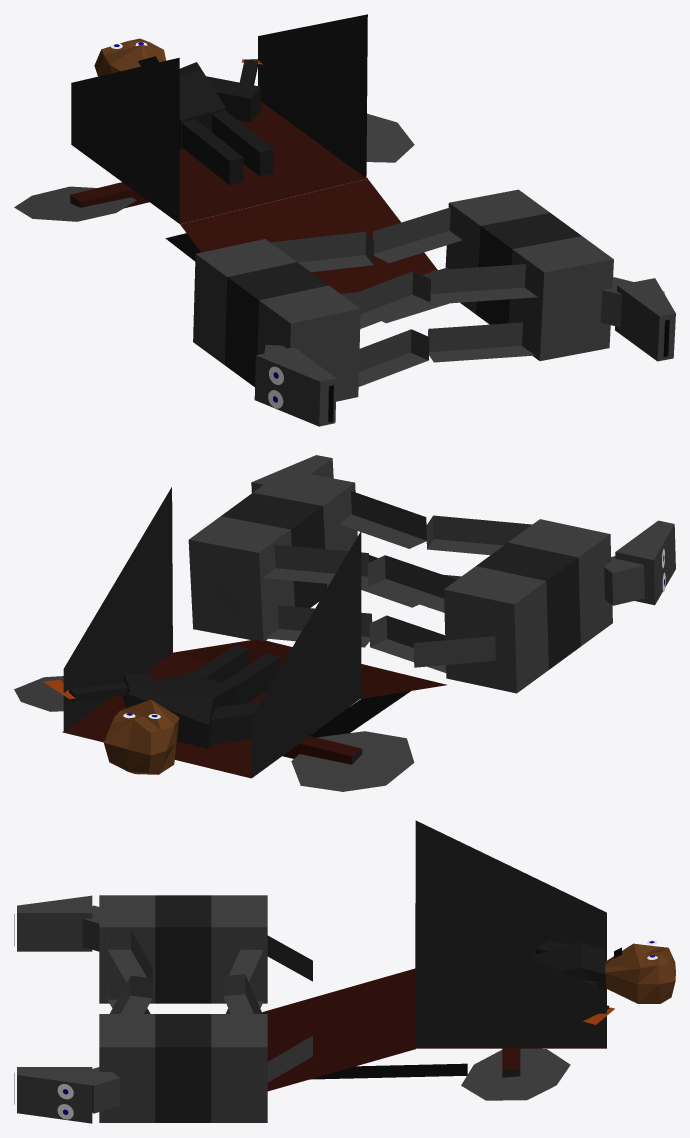
The model's file is lightchariot3d.obj.
3 views of the same model, one above another, from view 1: azimuth 30°, elevation 25°; view 2: azimuth 150°, elevation 25°; view 3: azimuth 270°, elevation 25° (orthographic). The views are drawn at different scales.
Parts seen in each view (by area): view 1: Cube.006_Cube.009, Cube.015_Cube.017, Plane.003, Plane.004, Plane.005_Plane.006, Plane.002, Cube.021_Cube.023, Cube.014_Cube.016, Cube.012_Cube.014, Cube.011_Cube.013, Cube.017_Cube.019, Cube.009_Cube.010 (+11 smaller); view 2: Cube.015_Cube.017, Cube.006_Cube.009, Plane.003, Plane.004, Plane.007_Plane.008, Plane.002, Cube, Cube.001, Cube.018_Cube.020, Plane.005_Plane.006, Cube.017_Cube.019, Cube.012_Cube.014 (+15 smaller); view 3: Plane.004, Cube.006_Cube.009, Cube.015_Cube.017, Plane.003, Plane.005_Plane.006, Plane.006_Plane.007, Cube.021_Cube.023, Cube.014_Cube.016, Cube, Cube.001, Plane.013_Plane.014, Cube.012_Cube.014 (+8 smaller).
Part boxes in pixels (x1,y1,x2,y2): Cube.006_Cube.009: (445,189,613,360); Cube.015_Cube.017: (193,239,360,401); Plane.003: (71,57,179,223); Plane.004: (258,14,367,177); Plane.005_Plane.006: (180,178,437,293); Plane.002: (179,101,367,224); Cube.021_Cube.023: (254,347,336,426); Cube.014_Cube.016: (615,278,675,361); Cube.012_Cube.014: (430,264,539,304); Cube.011_Cube.013: (428,322,536,362); Cube.017_Cube.019: (270,231,374,272); Cube.009_Cube.010: (372,207,462,263); Cube.015_Cube.017: (444,519,612,693); Cube.006_Cube.009: (188,469,357,640); Plane.003: (252,531,361,777); Plane.004: (63,487,172,731); Plane.007_Plane.008: (291,731,414,791); Plane.002: (62,652,266,778); Cube: (104,699,179,774); Cube.001: (126,673,234,748); Cube.018_Cube.020: (426,515,532,555); Plane.005_Plane.006: (173,639,446,698); Cube.017_Cube.019: (367,555,456,612); Cube.012_Cube.014: (339,491,426,548); Plane.004: (415,903,606,1047); Cube.006_Cube.009: (99,1014,267,1122); Cube.015_Cube.017: (99,895,267,1003); Plane.003: (415,820,606,960); Plane.005_Plane.006: (262,968,415,1091); Plane.006_Plane.007: (461,1048,570,1100); Cube.021_Cube.023: (17,895,92,951); Cube.014_Cube.016: (17,1067,92,1123); Cube: (605,943,675,1003); Cube.001: (530,942,606,991); Plane.013_Plane.014: (310,1063,467,1079); Cube.012_Cube.014: (110,975,152,1013).
Size of the model in its own units: 10.25 by 5.4 by 16.63.
